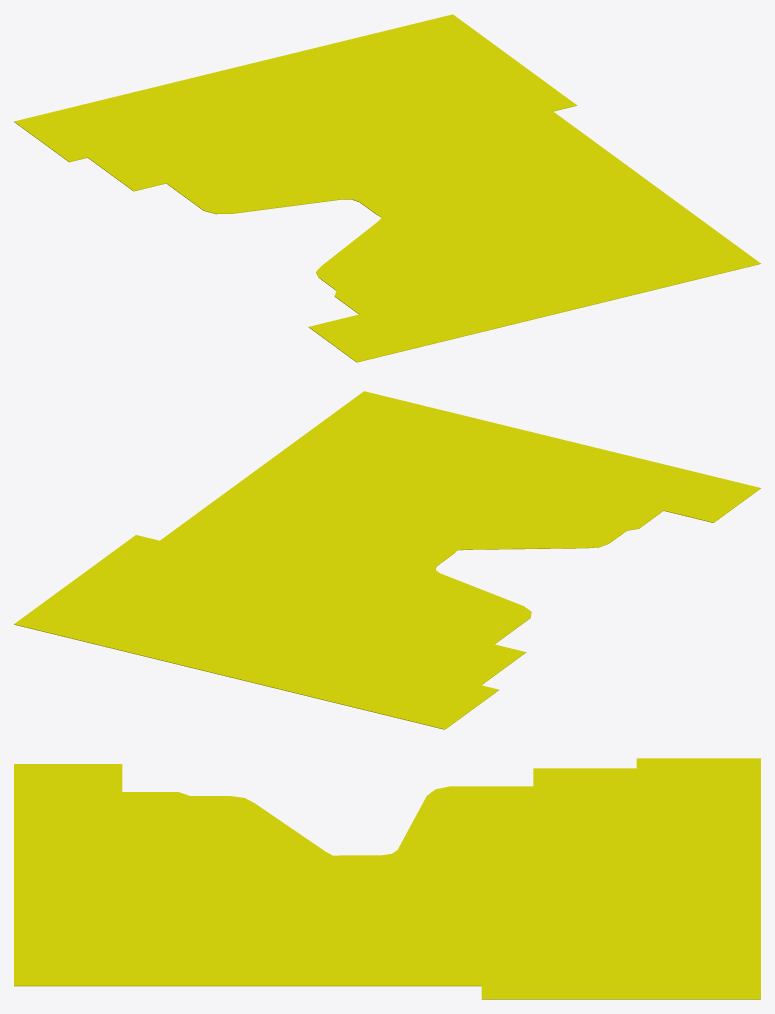
Rendered from sm_hana_building_b1f_ceiling.glb.
The picture shows the model from 3 angles, top to bottom: view 1: azimuth 30°, elevation 25°; view 2: azimuth 150°, elevation 25°; view 3: azimuth 270°, elevation 25°; orthographic projection. The views are drawn at different scales.
Parts seen in each view (by area): view 1: sm_hana_building_b1f_ceiling; view 2: sm_hana_building_b1f_ceiling; view 3: sm_hana_building_b1f_ceiling.
Part boxes in pixels (x1,y1,x2,y2): sm_hana_building_b1f_ceiling: [14, 14, 760, 362]; sm_hana_building_b1f_ceiling: [14, 391, 760, 729]; sm_hana_building_b1f_ceiling: [14, 758, 760, 999].
Bounding box in the file's own units: 87.7 × 0.0983 × 115.
1 material, 1 textured.
